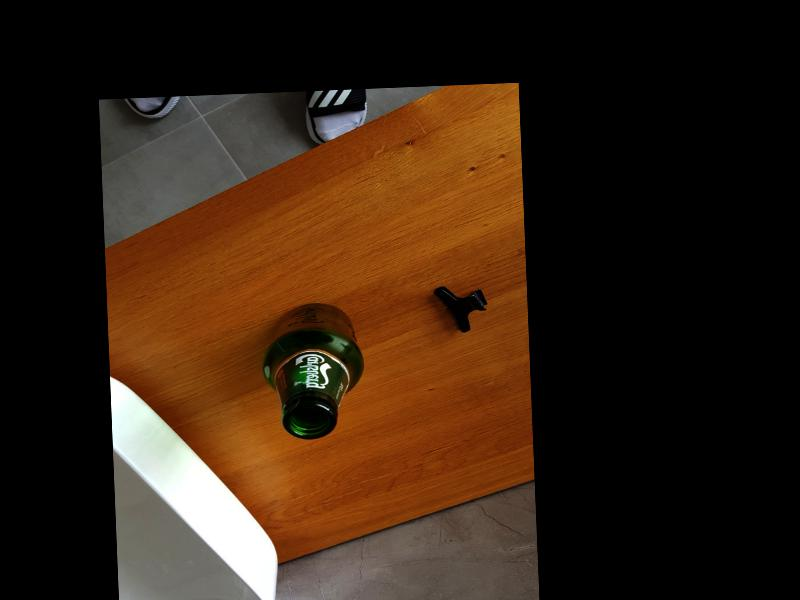Beer: (258, 301, 366, 440)
